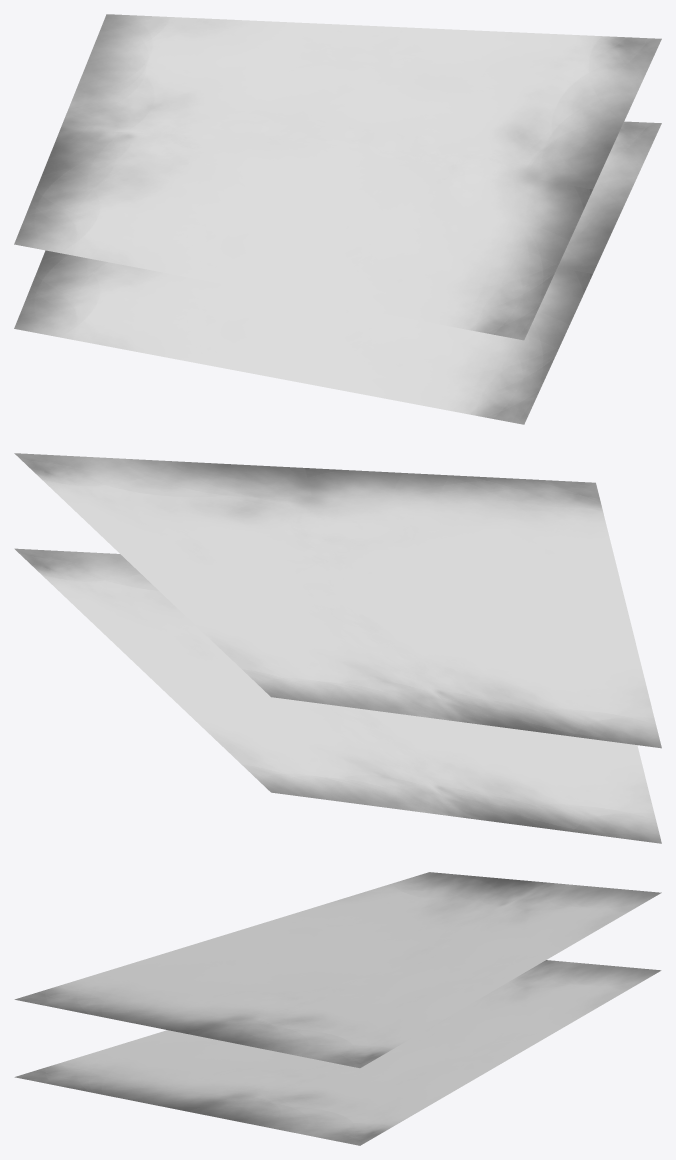
Rendered from CourseWinter_CurveFloor_6_13.fbx.
3 views of the same model, one above another, from view 1: azimuth 30°, elevation 25°; view 2: azimuth 150°, elevation 25°; view 3: azimuth 270°, elevation 25° (orthographic). The views are drawn at different scales.
Visible parts, largest first — view 1: polySurface686; view 2: polySurface686; view 3: polySurface686.
Part boxes in pixels (x1,y1,x2,y2): polySurface686: (14, 14, 661, 424); polySurface686: (14, 453, 661, 843); polySurface686: (14, 872, 661, 1145).
Size of the model in its own units: 7.57 by 2 by 7.57.
1 material, 1 textured.
